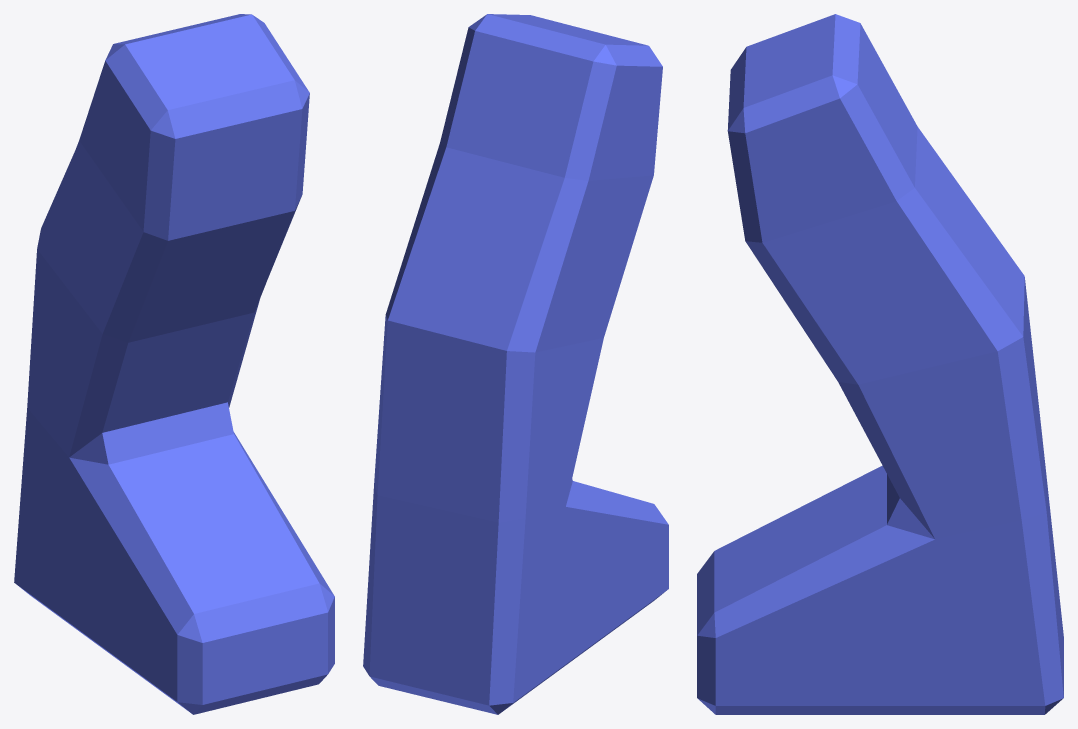
The model's file is Shoes.fbx.
3 renders of one model, left to right at view 1: azimuth 30°, elevation 25°; view 2: azimuth 150°, elevation 25°; view 3: azimuth 270°, elevation 25°, orthographic. The views are drawn at different scales.
Parts seen in each view (by area): view 1: Shoes; view 2: Shoes; view 3: Shoes.
Boxes of the visible parts, x1,y1,x2,y2 form: Shoes: (14,14,334,714); Shoes: (363,14,668,714); Shoes: (697,14,1063,714).
Bounding box in the file's own units: 0.1832 × 0.6573 × 0.3439.
